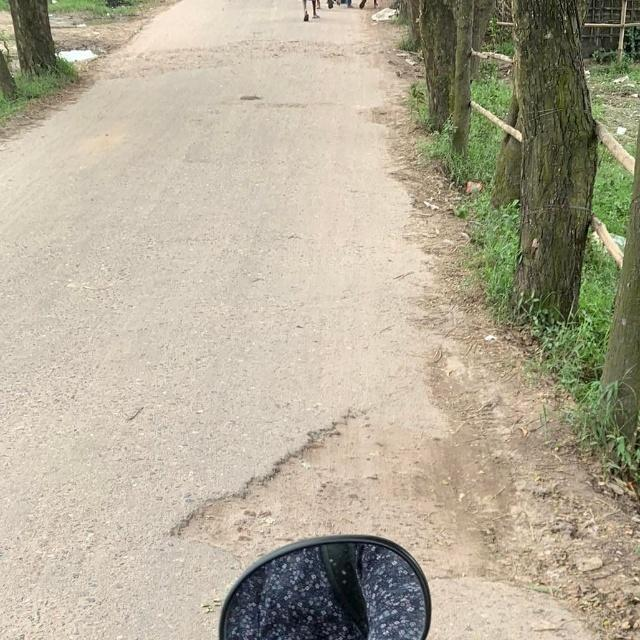Surface Erosion: (212, 363, 530, 576), (100, 0, 468, 136)
